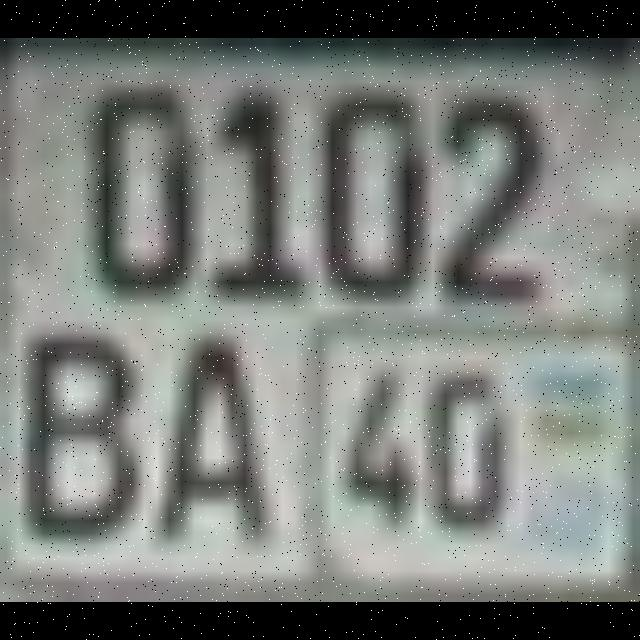0: (75, 75, 188, 288), (314, 75, 414, 288), (414, 352, 502, 514)
1: (201, 75, 301, 288)
2: (426, 75, 540, 288)
4: (326, 352, 414, 514)
A: (150, 314, 264, 540)
B: (12, 314, 126, 528)
